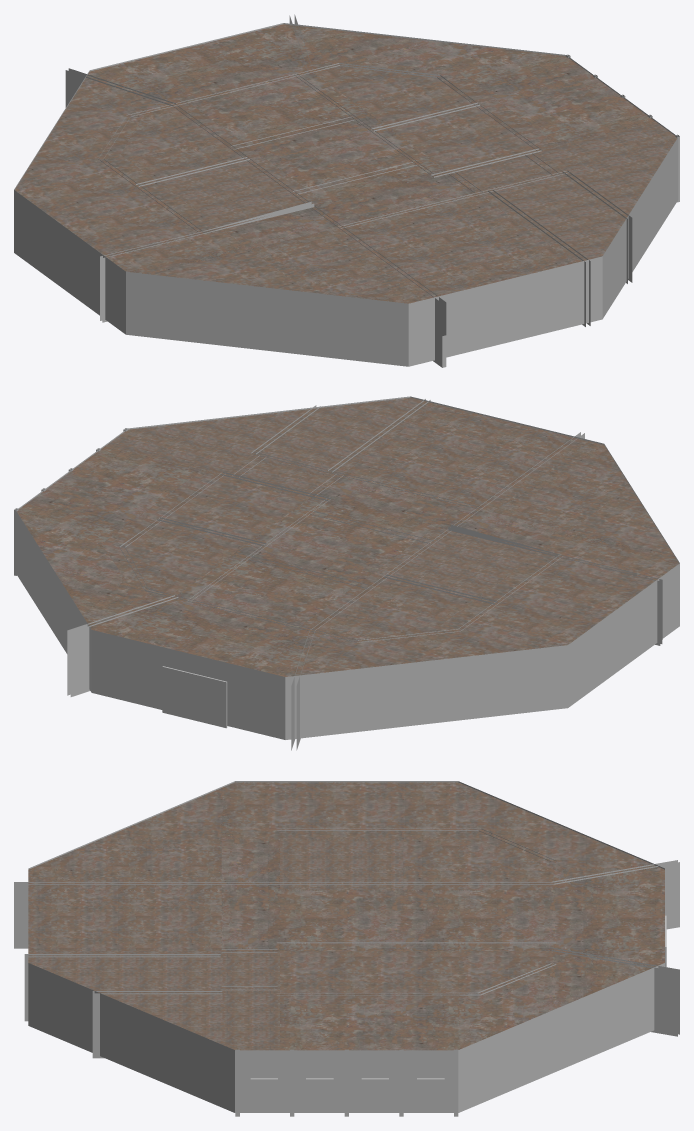
3 views of the same model, one above another, from view 1: azimuth 30°, elevation 25°; view 2: azimuth 150°, elevation 25°; view 3: azimuth 270°, elevation 25° (orthographic).
Parts seen in each view (by area): view 1: Roof, Plane.017, Plane.014, Plane.018, Plane.021, Cube.203, Cube.205, Cube.160; view 2: Roof, Plane.017, Cube.161, Cube.203, Plane.018, Plane.021, Plane.014; view 3: Roof, Plane.017, Cube.203, Cube.180, Plane.014, Cube.274, Plane.018, Cube.160, Cube.205, Plane.016.
Boxes of the visible parts, left/top/right/bottom form: Roof: left=15, top=24, right=677, bottom=303; Plane.017: left=14, top=23, right=678, bottom=366; Plane.014: left=173, top=104, right=446, bottom=367; Plane.018: left=98, top=63, right=542, bottom=233; Plane.021: left=100, top=201, right=314, bottom=322; Cube.203: left=65, top=14, right=313, bottom=107; Cube.205: left=562, top=170, right=632, bottom=283; Cube.160: left=488, top=190, right=590, bottom=326; Roof: left=17, top=397, right=679, bottom=676; Plane.017: left=16, top=396, right=679, bottom=739; Cube.161: left=162, top=666, right=227, bottom=728; Cube.203: left=67, top=595, right=315, bottom=750; Plane.018: left=119, top=473, right=562, bottom=642; Plane.021: left=448, top=525, right=662, bottom=645; Plane.014: left=311, top=432, right=584, bottom=630; Roof: left=28, top=782, right=664, bottom=1050; Plane.017: left=28, top=781, right=664, bottom=1112; Cube.203: left=551, top=860, right=679, bottom=1036; Cube.180: left=250, top=1078, right=444, bottom=1104; Plane.014: left=14, top=882, right=553, bottom=948; Cube.274: left=235, top=1049, right=458, bottom=1116; Plane.018: left=277, top=828, right=556, bottom=995; Cube.160: left=24, top=954, right=220, bottom=1021; Cube.205: left=92, top=991, right=222, bottom=1058; Plane.016: left=276, top=942, right=555, bottom=943.
Bounding box in the file's own units: 14143 × 1646 × 14653.
